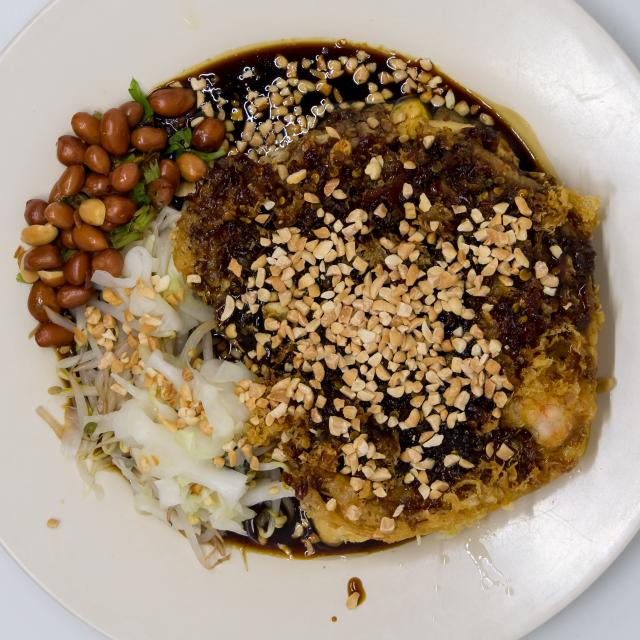Tahu-Telur: (23, 36, 617, 573)
